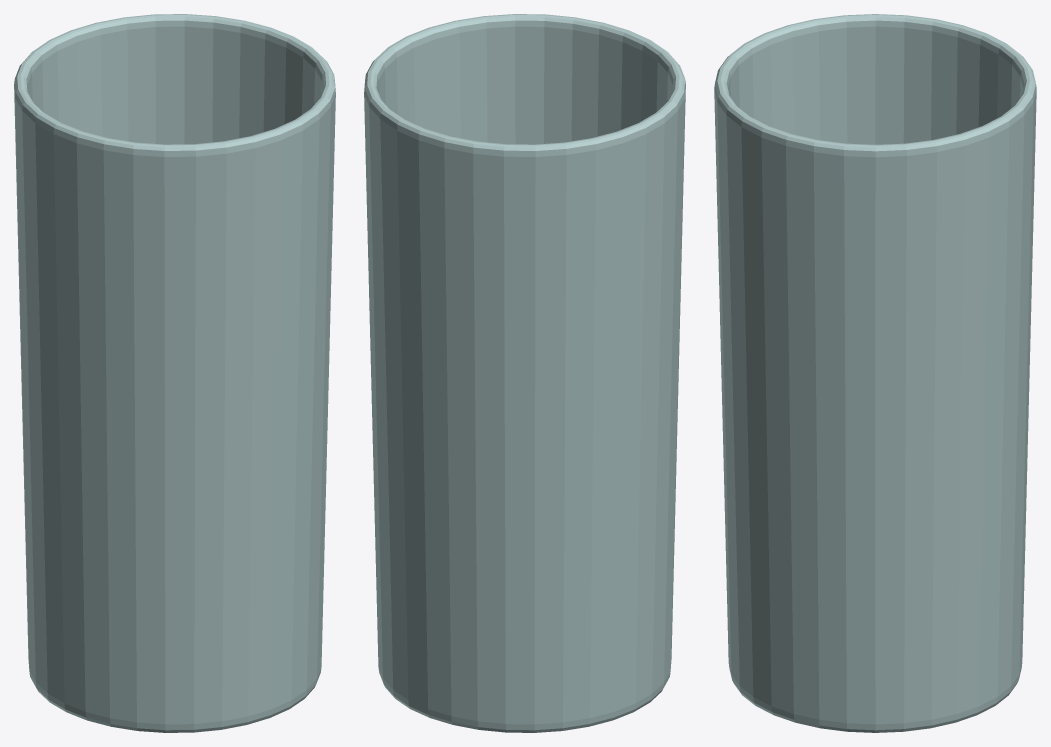
Rendered from sweethome3d-katorlegaz-glass-30.glb.
The picture shows the model from 3 angles, left to right: view 1: azimuth 30°, elevation 25°; view 2: azimuth 150°, elevation 25°; view 3: azimuth 270°, elevation 25°; orthographic projection.
Visible parts, largest first — view 1: highball_glass; view 2: highball_glass; view 3: highball_glass.
Part boxes in pixels (x1=…): highball_glass: x1=14, y1=14, x2=335, y2=732; highball_glass: x1=364, y1=14, x2=685, y2=732; highball_glass: x1=714, y1=14, x2=1036, y2=732.
Size of the model in its own units: 0.4488 by 0.9119 by 0.4488.
